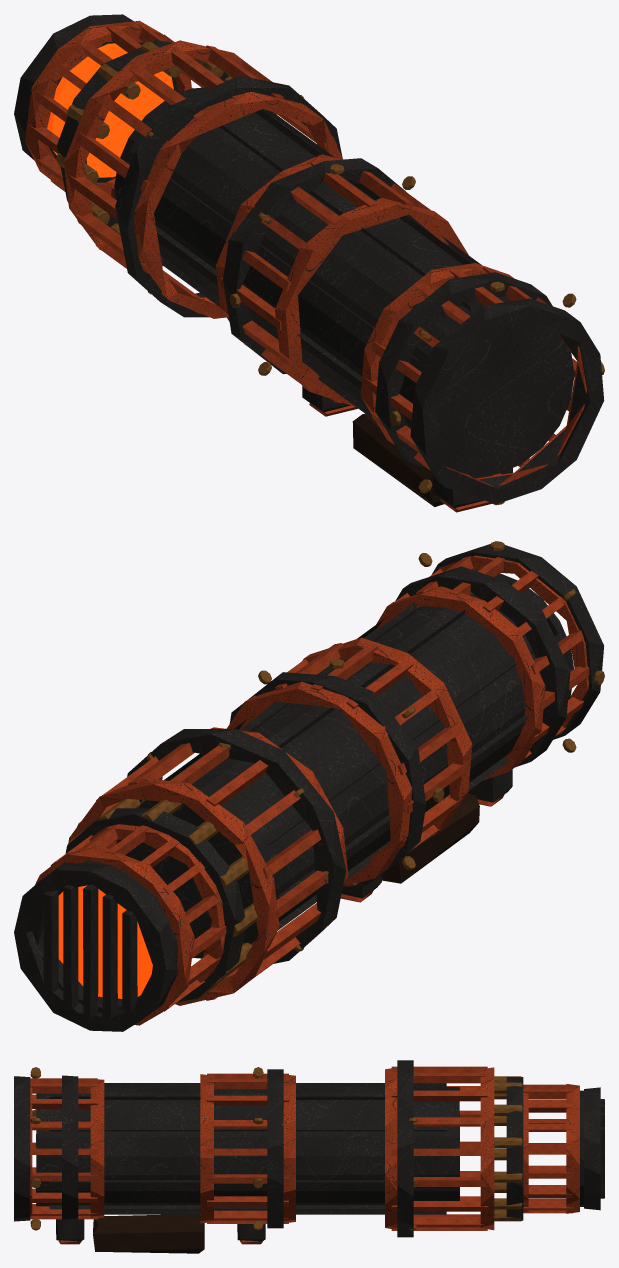
Rendered from kiln-focus-ready-lod1.glb.
The picture shows the model from 3 angles, top to bottom: view 1: azimuth 30°, elevation 25°; view 2: azimuth 150°, elevation 25°; view 3: azimuth 270°, elevation 25°; orthographic projection. The views are drawn at different scales.
Visible parts, largest first — view 1: Forged barrel core, Machined barrel rim, Ceramic vent header, Machined barrel rim.003, Ceramic vent header.003, Machined barrel rim.001, Machined barrel rim.002, Ceramic vent footer, Ceramic vent footer.001, Banked ember recessed chamber, Ceramic vent footer.002, Insulated palm grip (+23 smaller); view 2: Forged barrel core, Muzzle lip, Machined barrel rim.003, Ceramic vent footer, Ceramic vent footer.003, Machined barrel rim.001, Ceramic vent footer.002, Machined barrel rim.004, Machined barrel rim.002, Ceramic vent header.003, Machined barrel rim, Ceramic vent footer.001 (+29 smaller); view 3: Forged barrel core, Insulated palm grip, Machined barrel rim.003, Machined barrel rim.002, Machined barrel rim.001, Machined barrel rim, Ceramic vent footer, Machined barrel rim.004, Muzzle lip, Ceramic vent header, Ceramic vent footer.002, Ceramic vent header.003 (+47 smaller).
Part boxes in pixels (x1,y1,x2,y2): Forged barrel core: (114, 87, 574, 475); Machined barrel rim: (410, 298, 604, 504); Ceramic vent header: (134, 92, 343, 318); Machined barrel rim.003: (115, 75, 342, 317); Ceramic vent header.003: (275, 198, 468, 406); Machined barrel rim.001: (375, 272, 552, 468); Machined barrel rim.002: (223, 158, 405, 374); Ceramic vent footer: (63, 40, 276, 266); Ceramic vent footer.001: (25, 20, 191, 195); Banked ember recessed chamber: (47, 43, 173, 177); Ceramic vent footer.002: (360, 263, 513, 444); Insulated palm grip: (352, 413, 443, 506); Forged barrel core: (116, 570, 573, 958); Muzzle lip: (14, 862, 178, 1031); Machined barrel rim.003: (127, 729, 346, 963); Ceramic vent footer: (68, 778, 279, 1005); Ceramic vent footer.003: (226, 681, 412, 886); Machined barrel rim.001: (395, 566, 570, 767); Ceramic vent footer.002: (376, 586, 545, 780); Machined barrel rim.004: (65, 808, 245, 1002); Machined barrel rim.002: (229, 672, 426, 887); Ceramic vent header.003: (302, 637, 472, 835); Machined barrel rim: (431, 544, 603, 739); Ceramic vent footer.001: (35, 846, 194, 1025); Forged barrel core: (36, 1087, 460, 1210); Insulated palm grip: (93, 1214, 204, 1253); Machined barrel rim.003: (397, 1060, 413, 1237); Machined barrel rim.002: (267, 1069, 283, 1228); Machined barrel rim.001: (62, 1075, 78, 1221); Machined barrel rim: (14, 1076, 30, 1221); Ceramic vent footer: (480, 1067, 494, 1230); Machined barrel rim.004: (506, 1077, 523, 1220); Muzzle lip: (584, 1087, 600, 1210); Ceramic vent header: (385, 1067, 397, 1229); Ceramic vent footer.002: (90, 1079, 104, 1218); Ceramic vent header.003: (200, 1074, 213, 1223).
Bounding box in the file's own units: 0.2566 × 0.2878 × 0.8635.
5 materials, 4 textured.
